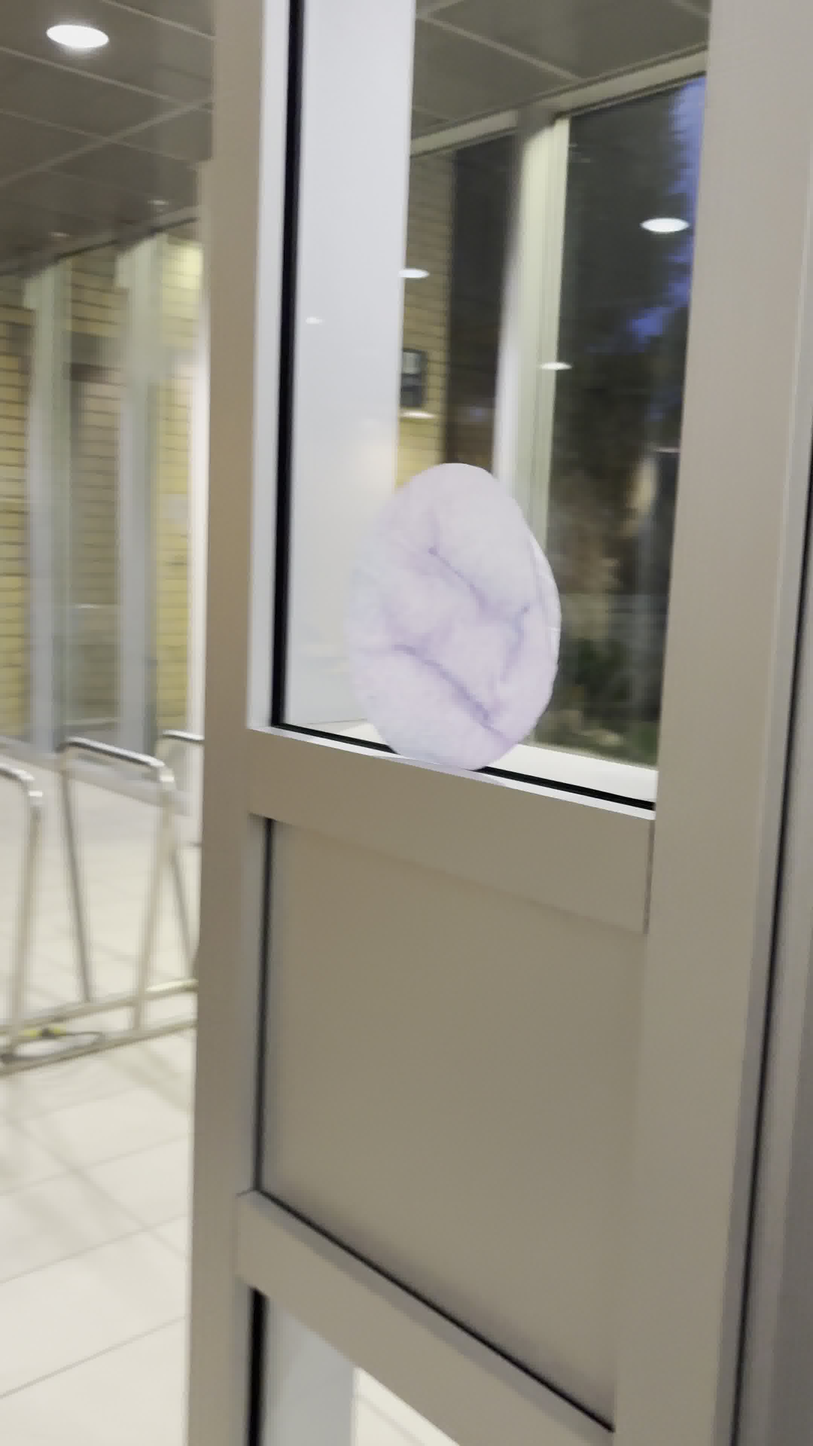Target: (350, 455, 568, 781)
